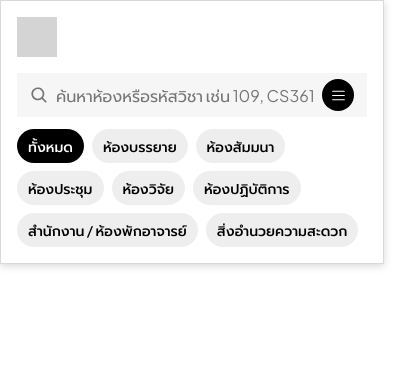
Test: RoomSearchPanel Component › shows the exam-specific empty state for an unknown course code
Step 1. Type "NOPE123" into the field with placeholder "ค้นหาห้องหรือรหัสวิชา เช่น 109, CS361" → (185, 95), box x1=56 y1=74 x2=314 y2=116
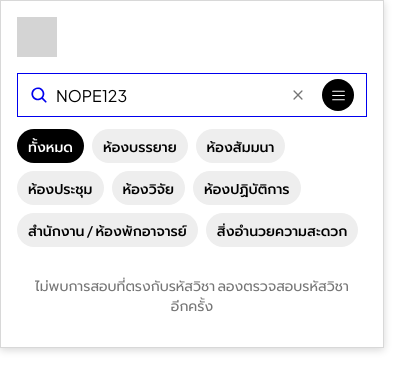
Result: the button "ไม่พบการสอบที่ตรงกับรหัสวิชา ลองตรวจสอบรหัสวิชาอีกครั้ง" is shown at x1=35 y1=276 x2=349 y2=314
